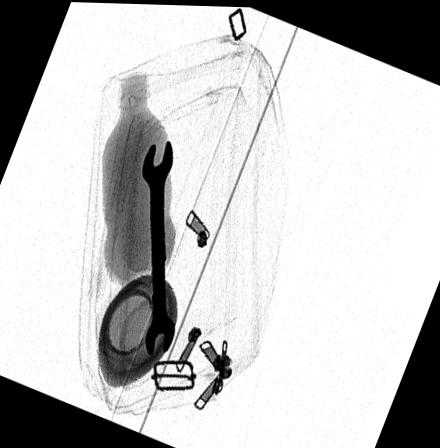Wrench: (139, 137, 175, 357)
